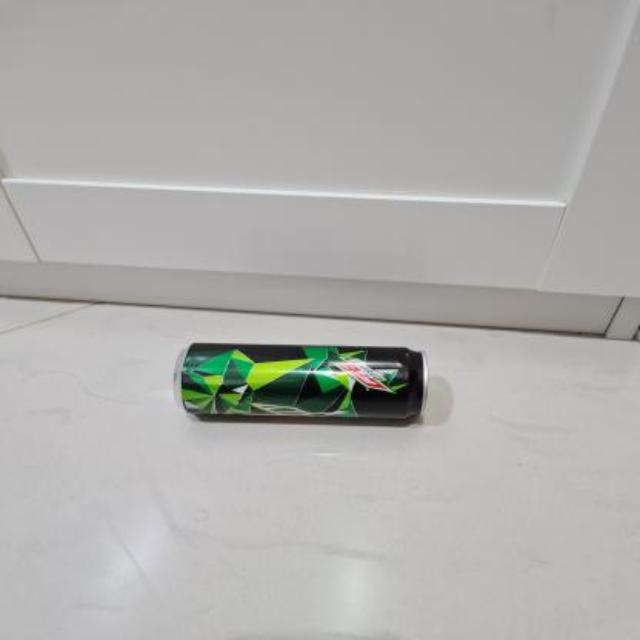metal: (177, 342, 423, 417)
